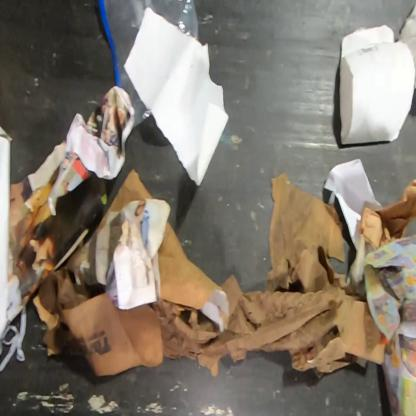cardboard: (151, 171, 386, 379), (338, 24, 415, 146), (158, 219, 230, 333), (31, 266, 92, 358), (0, 125, 26, 340), (96, 166, 155, 231)
soft_plastic: (98, 0, 200, 129)
